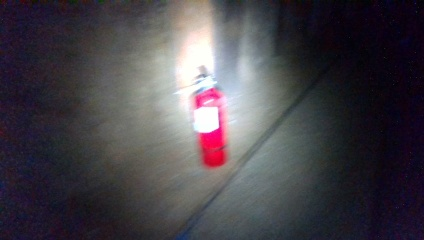fire_extinguisher: (183, 70, 231, 165)
